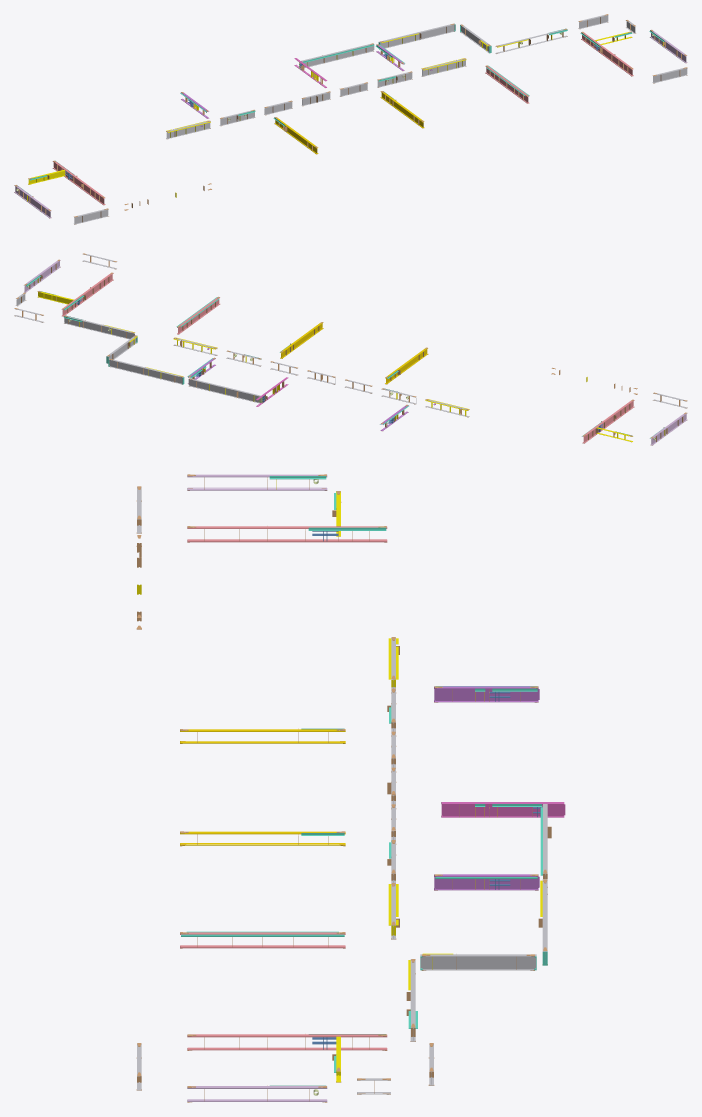
3 views of the same model, one above another, from view 1: azimuth 30°, elevation 25°; view 2: azimuth 150°, elevation 25°; view 3: azimuth 270°, elevation 25° (orthographic). The views are drawn at different scales.
Parts seen in each view (by area): view 1: 18-4GL[1Us6$k0000Pp4rEJ4oD38t], 18-4GL[1Us6$k0000Np4rEJ4oD38t], 18-4GL[1Us6$k0000qp4rEJ4oD38t], 18-4GL[1Us6$k0000pp4rEJ4oD38t], 18-4GL[1Us6$k0000fp4rEJ4oD38t], 18-4GL[1Us6$k0000sp4rEJ4oD38t], 18-4GL[1Us6$k0000lp4rEJ4oD38t], 18-4GL[1Us6$k0000up4rEJ4oD38t], 18-4GL[1Us6$k0000tp4rEJ4oD38t]; view 2: 18-4GL[1Us6$k0000Pp4rEJ4oD38t], 18-4GL[1Us6$k0000Np4rEJ4oD38t], 18-4GL[1Us6$k0000Zp4rEJ4oD38t], 18-4GL[1Us6$k0000pp4rEJ4oD38t], 18-4GL[1Us6$k0000qp4rEJ4oD38t], 18-4GL[1Us6$k0000sp4rEJ4oD38t], 18-4GL[1Us6$k0000up4rEJ4oD38t], 18-4GL[1Us6$k0000tp4rEJ4oD38t], 18-4GL[1Us6$k0000op4rEJ4oD38t]; view 3: 18-4GL[1Us6$k0000Wp4rEJ4oD38t], 18-4GL[1Us6$k0000Lp4rEJ4oD38t], 18-4GL[1Us6$k0000Up4rEJ4oD38t], 18-4GL[1Us6$k0000qp4rEJ4oD38t], 18-4GL[1Us6$k0000Sp4rEJ4oD38t], 18-4GL[1Us6$k0000pp4rEJ4oD38t], 18-4GL[1Us6$k0000sp4rEJ4oD38t], 18-4GL[1Us6$k0000up4rEJ4oD38t], 18-4GL[1Us6$k0000op4rEJ4oD38t], 18-4GL[1Us6$k0000tp4rEJ4oD38t].
Boxes of the visible parts, bbox=[...] form: 18-4GL[1Us6$k0000Pp4rEJ4oD38t]: bbox=[379, 23, 454, 48]; 18-4GL[1Us6$k0000Np4rEJ4oD38t]: bbox=[301, 44, 374, 67]; 18-4GL[1Us6$k0000qp4rEJ4oD38t]: bbox=[581, 32, 633, 76]; 18-4GL[1Us6$k0000pp4rEJ4oD38t]: bbox=[52, 161, 105, 205]; 18-4GL[1Us6$k0000fp4rEJ4oD38t]: bbox=[166, 121, 210, 138]; 18-4GL[1Us6$k0000sp4rEJ4oD38t]: bbox=[485, 66, 529, 103]; 18-4GL[1Us6$k0000lp4rEJ4oD38t]: bbox=[422, 59, 466, 76]; 18-4GL[1Us6$k0000up4rEJ4oD38t]: bbox=[380, 91, 424, 128]; 18-4GL[1Us6$k0000tp4rEJ4oD38t]: bbox=[274, 117, 318, 154]; 18-4GL[1Us6$k0000Pp4rEJ4oD38t]: bbox=[109, 358, 183, 384]; 18-4GL[1Us6$k0000Np4rEJ4oD38t]: bbox=[188, 379, 260, 403]; 18-4GL[1Us6$k0000Zp4rEJ4oD38t]: bbox=[64, 316, 134, 339]; 18-4GL[1Us6$k0000pp4rEJ4oD38t]: bbox=[582, 400, 634, 443]; 18-4GL[1Us6$k0000qp4rEJ4oD38t]: bbox=[61, 273, 113, 316]; 18-4GL[1Us6$k0000sp4rEJ4oD38t]: bbox=[177, 297, 219, 334]; 18-4GL[1Us6$k0000up4rEJ4oD38t]: bbox=[280, 322, 323, 358]; 18-4GL[1Us6$k0000tp4rEJ4oD38t]: bbox=[385, 348, 427, 384]; 18-4GL[1Us6$k0000op4rEJ4oD38t]: bbox=[650, 413, 687, 445]; 18-4GL[1Us6$k0000Wp4rEJ4oD38t]: bbox=[420, 954, 536, 970]; 18-4GL[1Us6$k0000Lp4rEJ4oD38t]: bbox=[441, 802, 565, 817]; 18-4GL[1Us6$k0000Up4rEJ4oD38t]: bbox=[434, 686, 539, 702]; 18-4GL[1Us6$k0000qp4rEJ4oD38t]: bbox=[187, 1034, 387, 1050]; 18-4GL[1Us6$k0000Sp4rEJ4oD38t]: bbox=[434, 874, 539, 890]; 18-4GL[1Us6$k0000pp4rEJ4oD38t]: bbox=[187, 526, 387, 542]; 18-4GL[1Us6$k0000sp4rEJ4oD38t]: bbox=[180, 932, 345, 948]; 18-4GL[1Us6$k0000up4rEJ4oD38t]: bbox=[180, 831, 345, 845]; 18-4GL[1Us6$k0000op4rEJ4oD38t]: bbox=[187, 474, 327, 490]; 18-4GL[1Us6$k0000tp4rEJ4oD38t]: bbox=[180, 729, 345, 743].
Bounding box in the file's own units: 39.62 × 0.4411 × 11.7.
